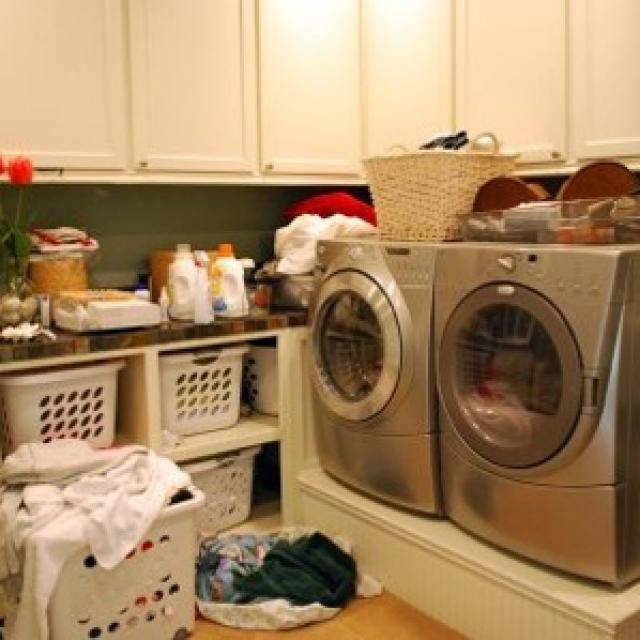mess: (2, 439, 364, 640), (0, 178, 291, 355), (319, 155, 640, 264)
